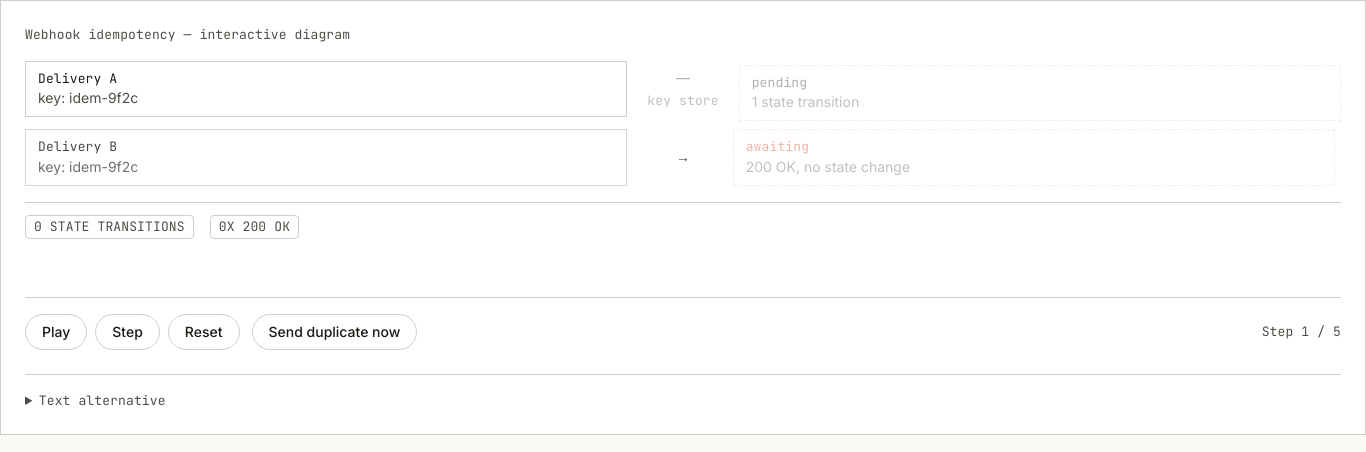
Scenario: WebhookIdempotencyDiagram › Reset returns to step 1 and clears the duplicate what-if
Click the button "Step": (128, 332) [95,314,160,350]
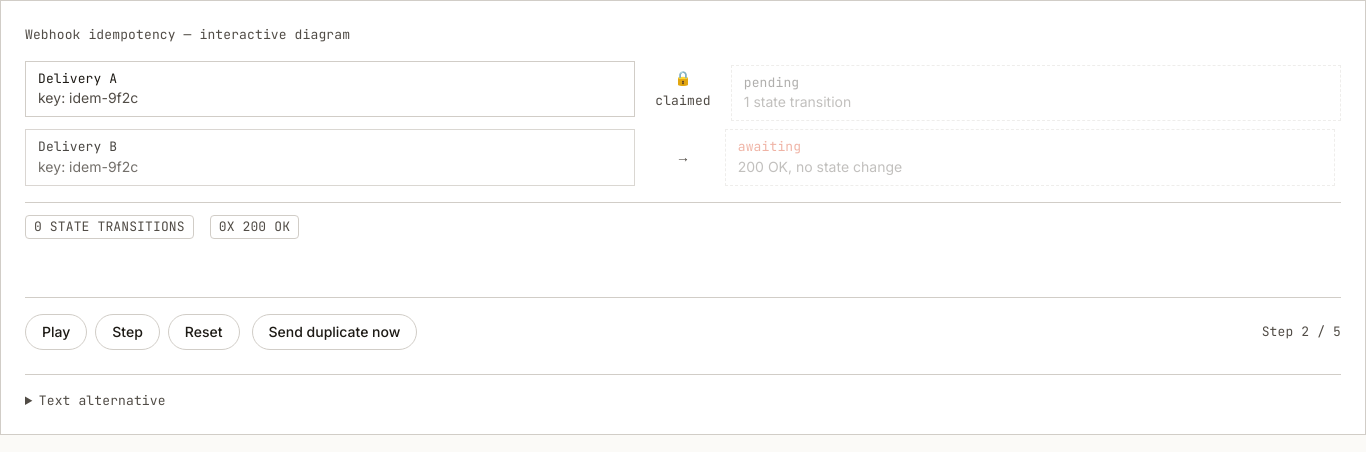
Click the button "Send duplicate now": (334, 332) [252,314,417,350]
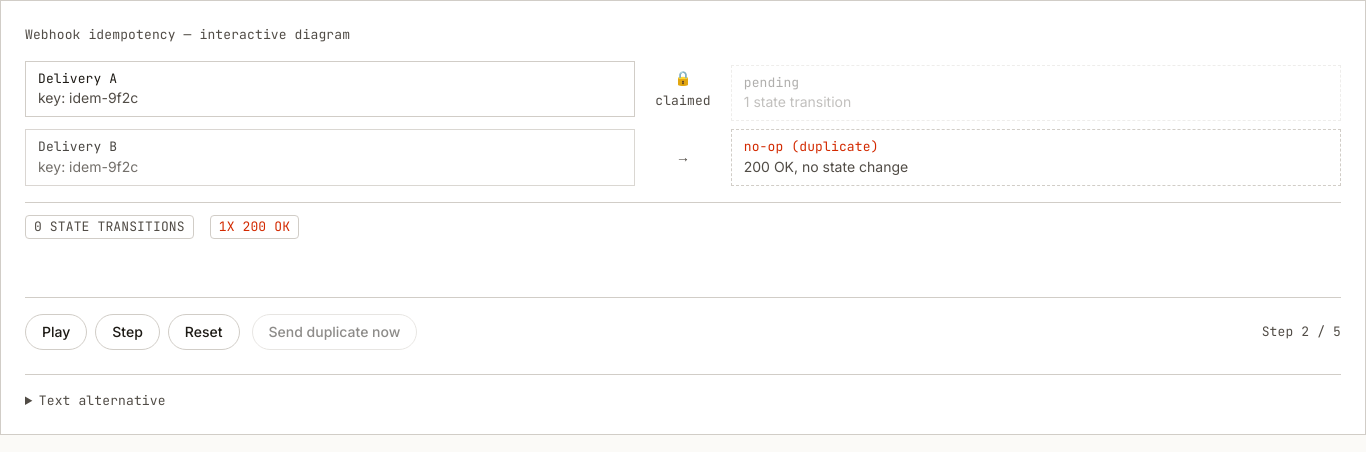
Click the button "Reset": (204, 332) [168,314,240,350]
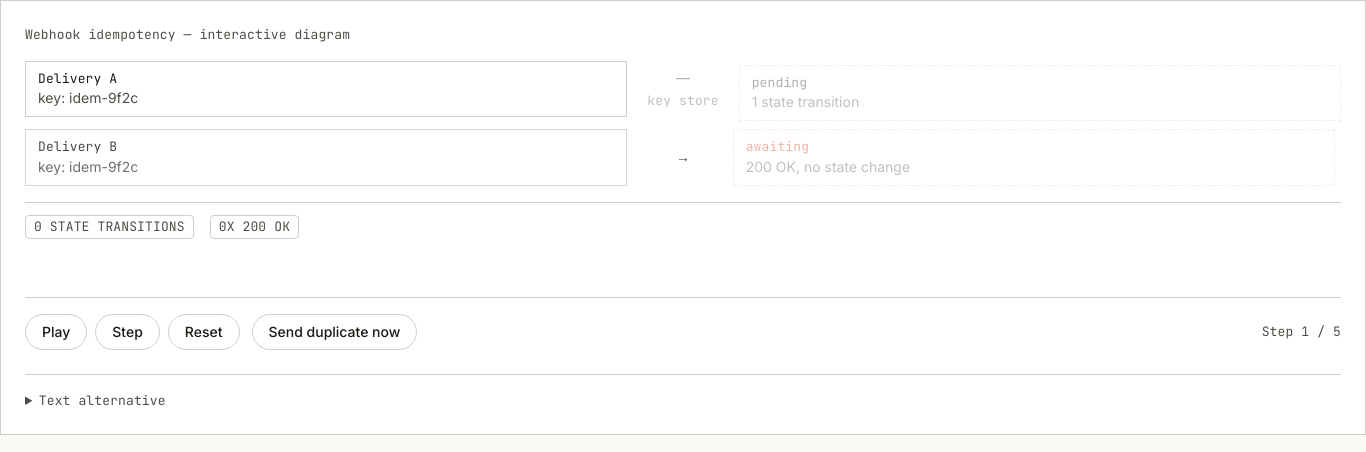
Result: the text "Step 1 / 5" is shown at [1262,322,1341,341]
Result: the button "Send duplicate now" is enabled at [252,314,417,350]
